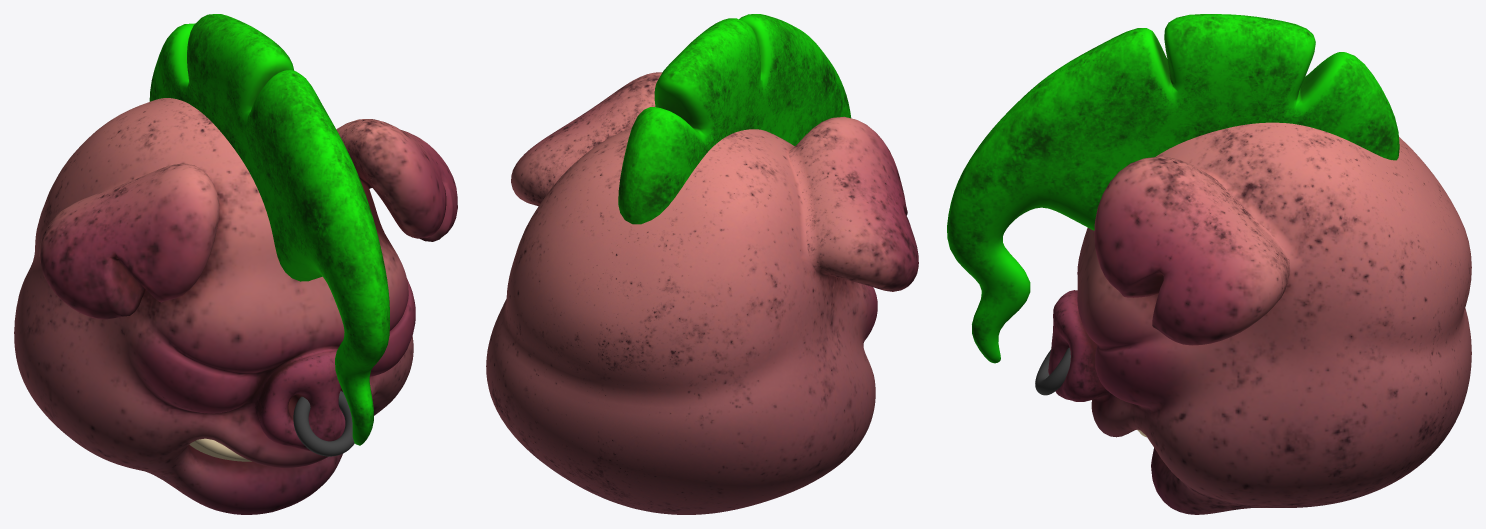
File: pig.glb
The picture shows the model from 3 angles, left to right: view 1: azimuth 30°, elevation 25°; view 2: azimuth 150°, elevation 25°; view 3: azimuth 270°, elevation 25°; orthographic projection. The views are drawn at different scales.
Parts seen in each view (by area): view 1: Pig; view 2: Pig; view 3: Pig.
Boxes of the visible parts, x1,y1,x2,y2 form: Pig: (14,14,457,514); Pig: (486,14,918,514); Pig: (947,14,1471,514).
Bounding box in the file's own units: 3.05 × 3.41 × 3.34.
1 material, 1 textured.
